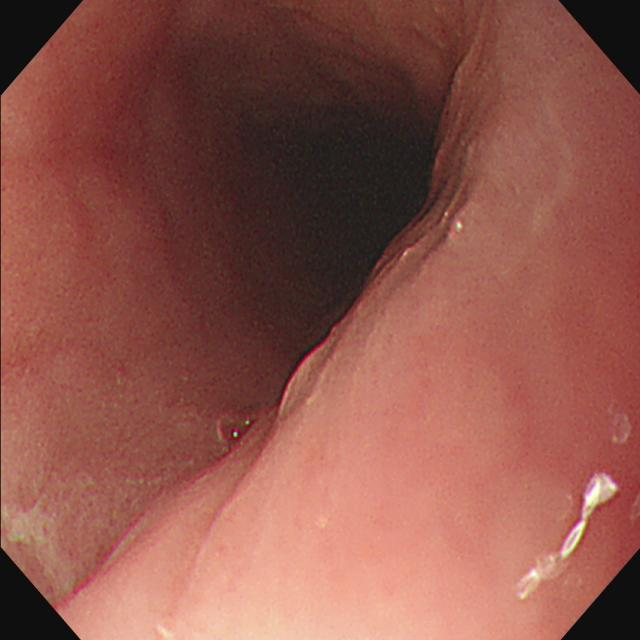E: (200, 71, 454, 351)
T: (213, 407, 264, 450)
U: (518, 473, 619, 602)
